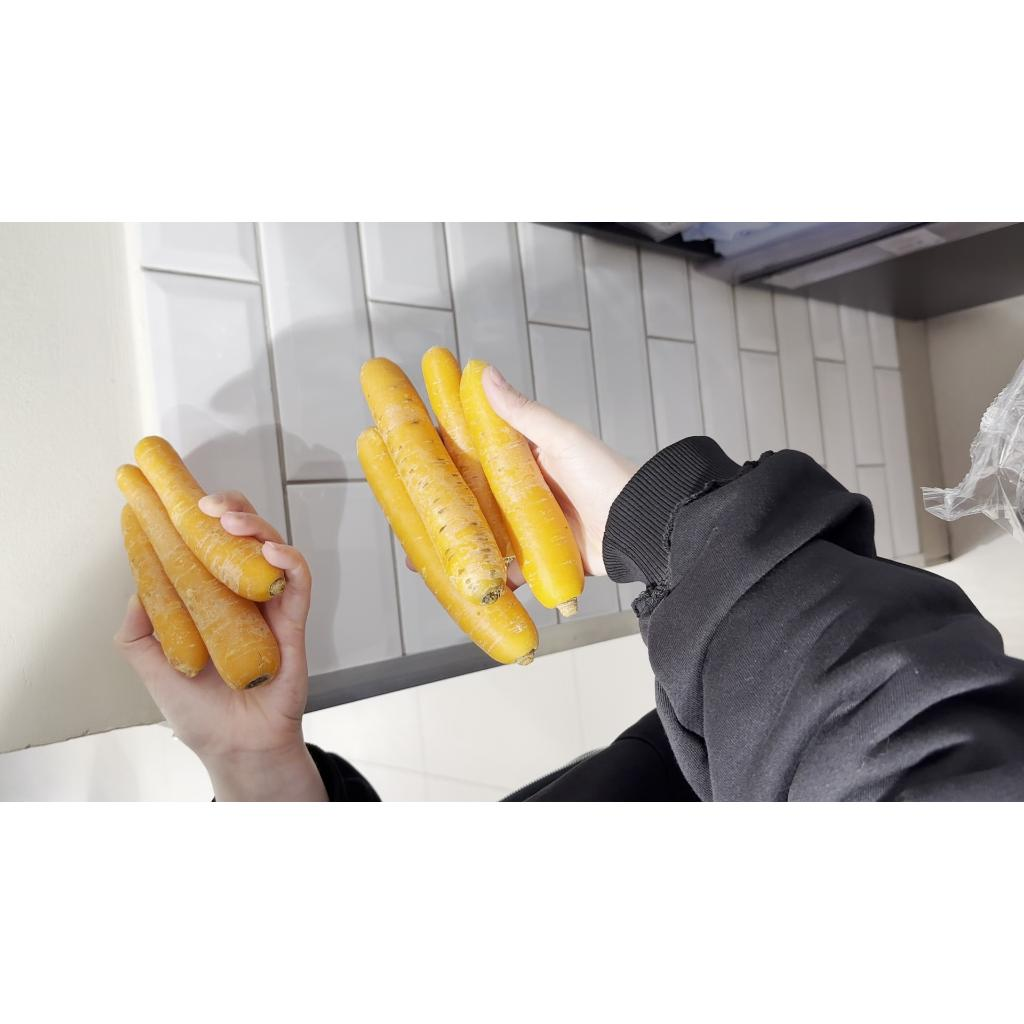carrot: (358, 428, 538, 664), (116, 466, 280, 690), (360, 358, 506, 604), (460, 360, 584, 608), (134, 436, 286, 602), (422, 346, 514, 564), (122, 506, 210, 676)
